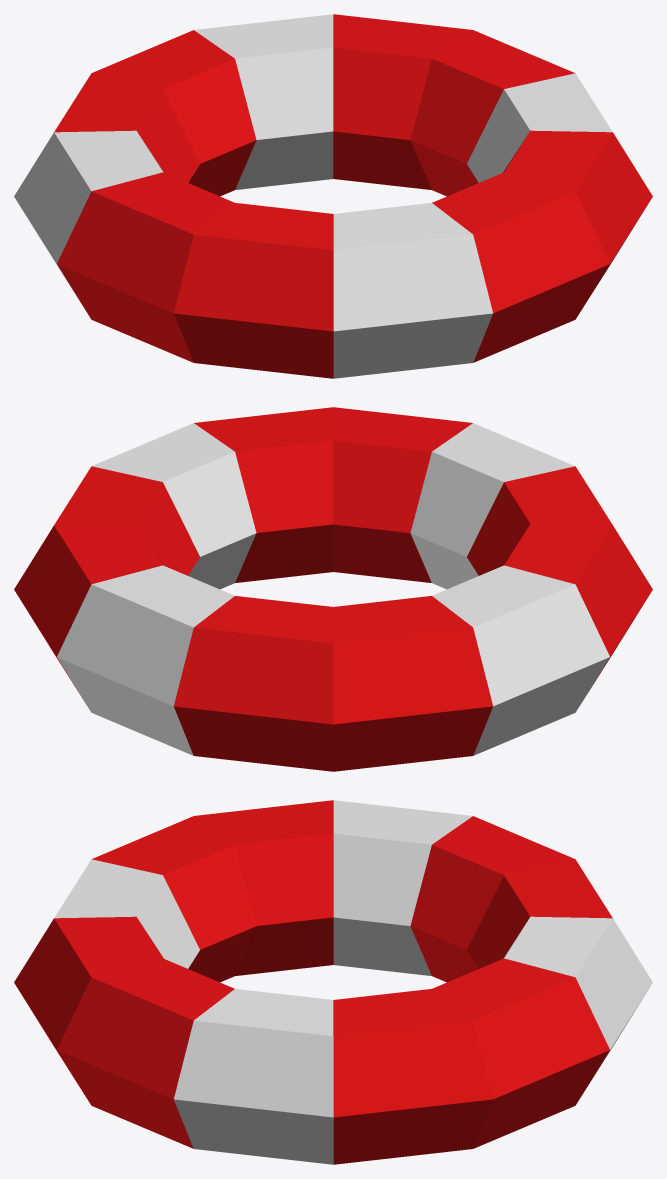
The model's file is lifebuoy01.fbx.
The picture shows the model from 3 angles, top to bottom: view 1: azimuth 30°, elevation 25°; view 2: azimuth 150°, elevation 25°; view 3: azimuth 270°, elevation 25°; orthographic projection.
Parts seen in each view (by area): view 1: lifebuoy_01; view 2: lifebuoy_01; view 3: lifebuoy_01.
Part boxes in pixels (<box>): lifebuoy_01: <box>14,14,652,378</box>; lifebuoy_01: <box>14,407,652,771</box>; lifebuoy_01: <box>14,800,652,1164</box>.
Size of the model in its own units: 0.7911 by 0.7911 by 0.1796.
